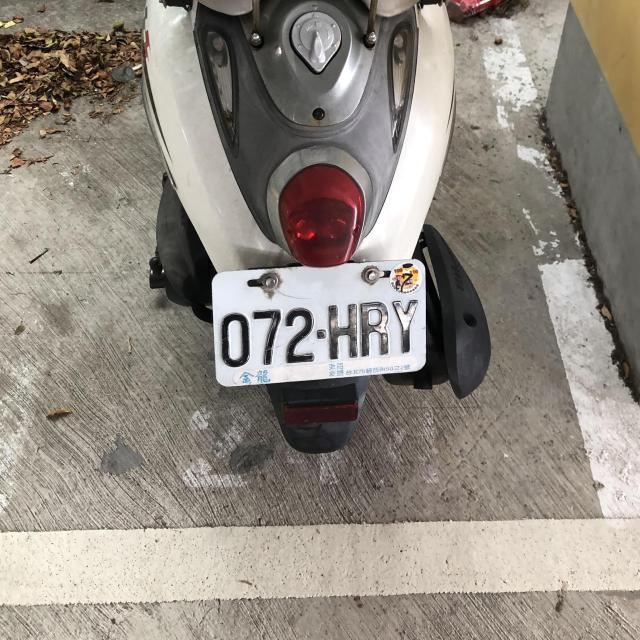W: (211, 252, 431, 386)
